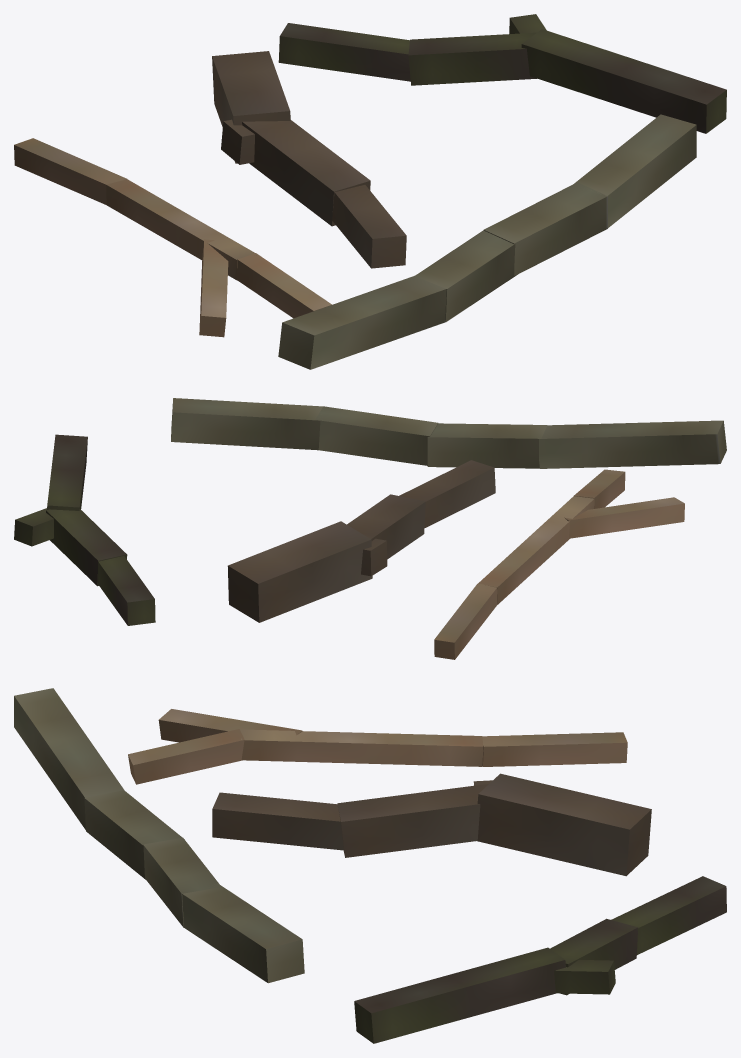
File: floortwig_4.obj
3 renders of one model, top to bottom at view 1: azimuth 30°, elevation 25°; view 2: azimuth 150°, elevation 25°; view 3: azimuth 270°, elevation 25°, orthographic. The views are drawn at different scales.
Parts seen in each view (by area): view 1: cube; view 2: cube; view 3: cube.
Boxes of the visible parts, x1,y1,x2,y2 form: cube: [14, 14, 726, 369]; cube: [14, 398, 726, 659]; cube: [14, 688, 726, 1043].
Size of the model in its own units: 1.4 by 0.1413 by 1.38.
